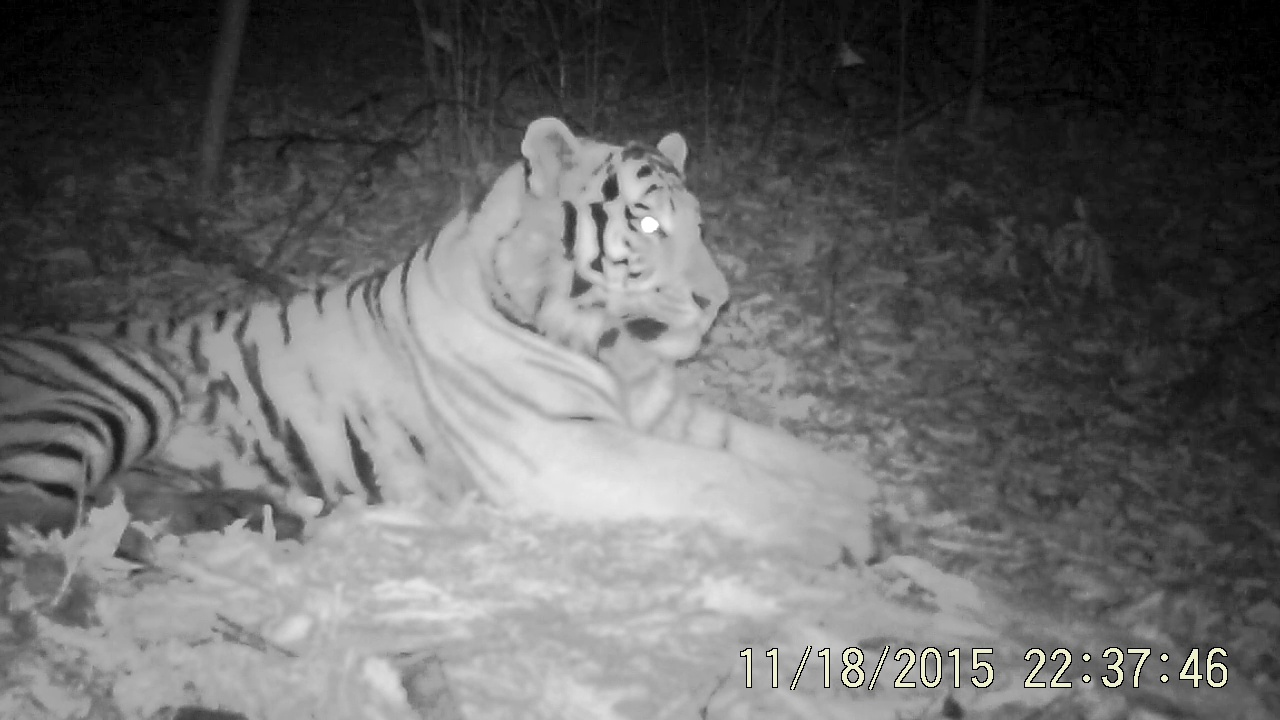Tiger: (2, 22, 943, 617)
